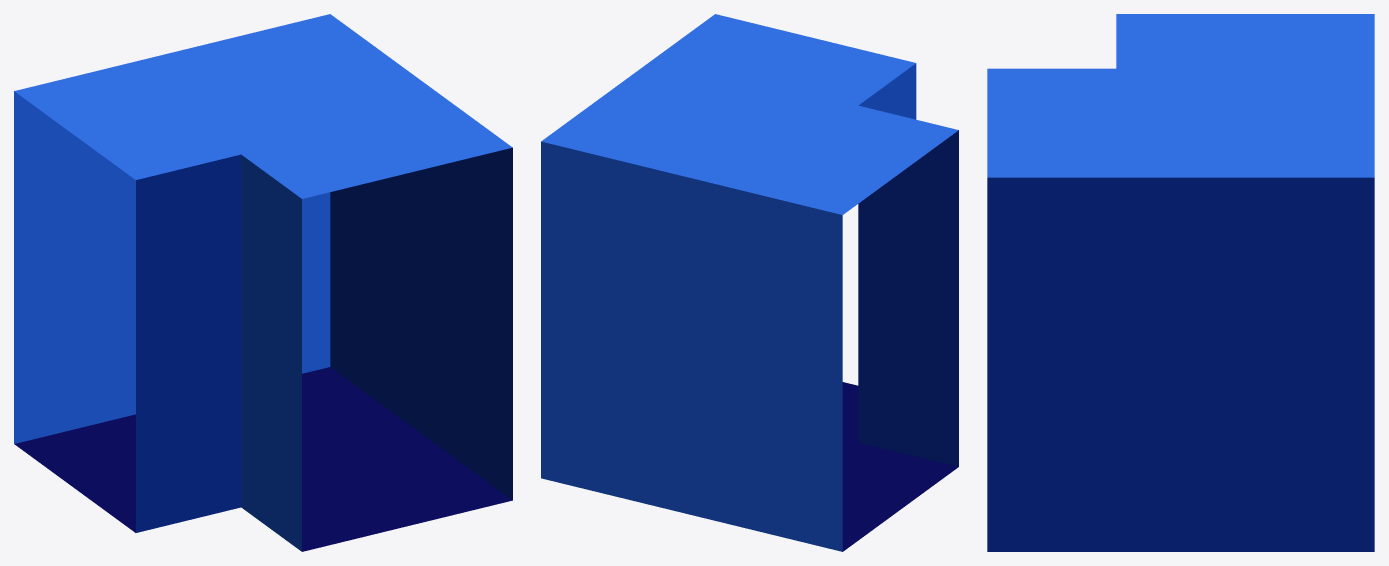
Rendered from wall_corner_down_left.glb.
The picture shows the model from 3 angles, left to right: view 1: azimuth 30°, elevation 25°; view 2: azimuth 150°, elevation 25°; view 3: azimuth 270°, elevation 25°; orthographic projection. The views are drawn at different scales.
Parts seen in each view (by area): view 1: wall_corner_down_left; view 2: wall_corner_down_left; view 3: wall_corner_down_left.
Part boxes in pixels (x1,y1,x2,y2): wall_corner_down_left: (14,14,512,551); wall_corner_down_left: (541,14,958,551); wall_corner_down_left: (987,14,1374,551).
Bounding box in the file's own units: 0.75 × 0.8 × 0.75.
